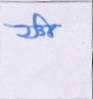i_matra: (35, 13, 54, 37)
